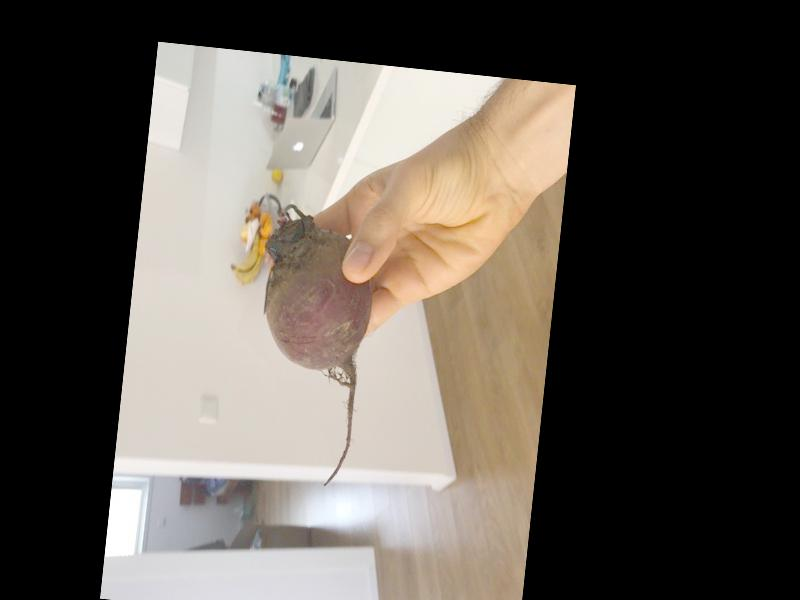Beet: (242, 203, 380, 489)
